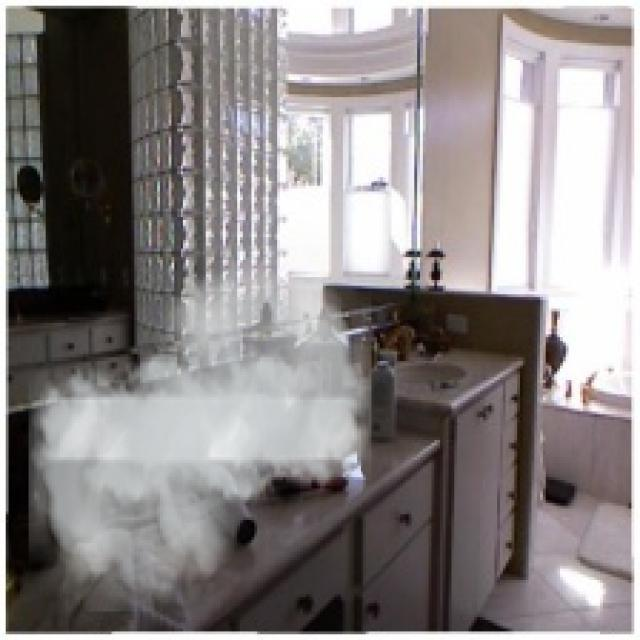Smoke: (29, 246, 372, 612)
